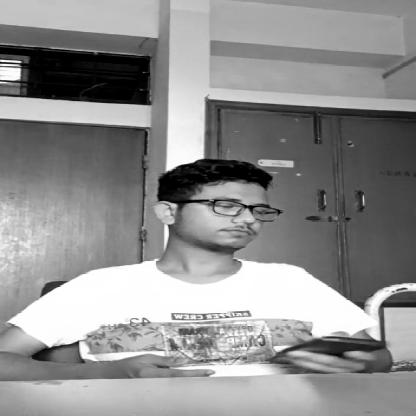Distracted: (154, 160, 283, 254)
